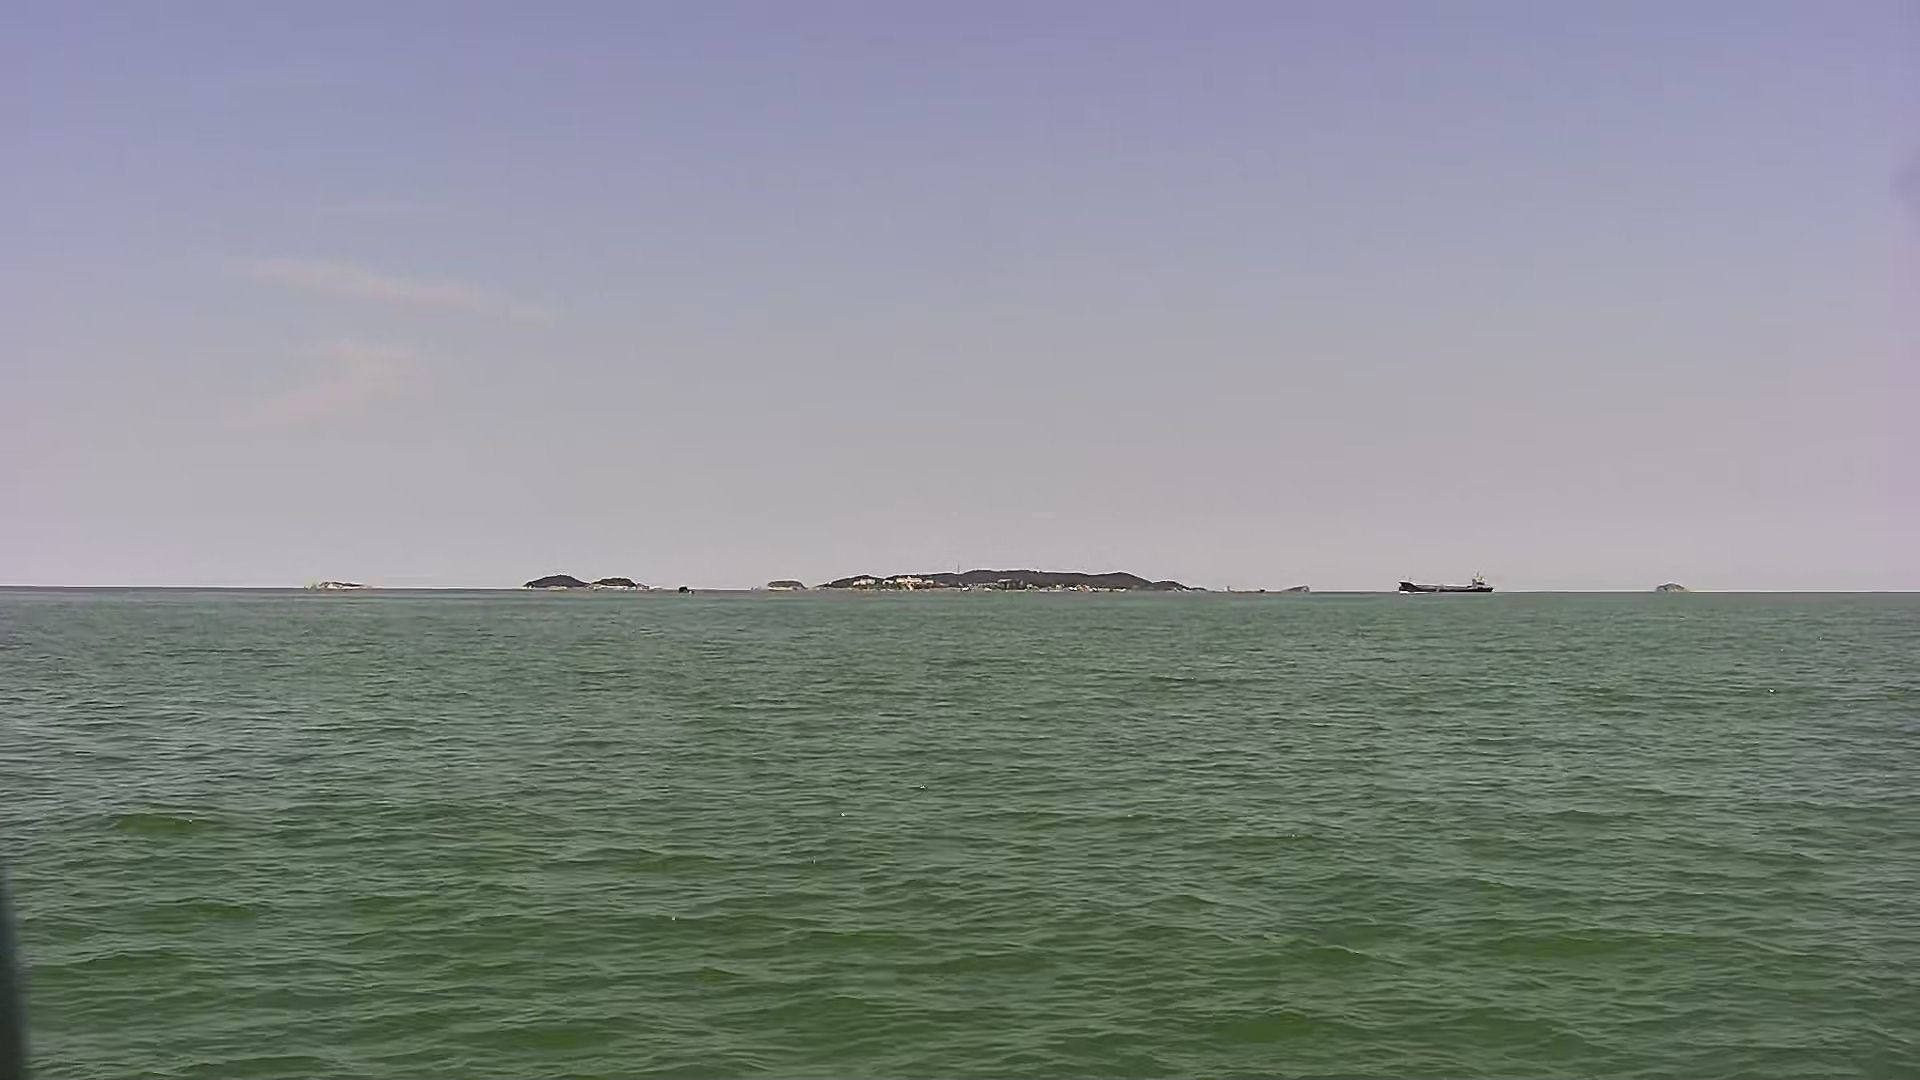rock: (760, 568, 1233, 597), (516, 572, 647, 593)
ship: (1393, 575, 1495, 597)
